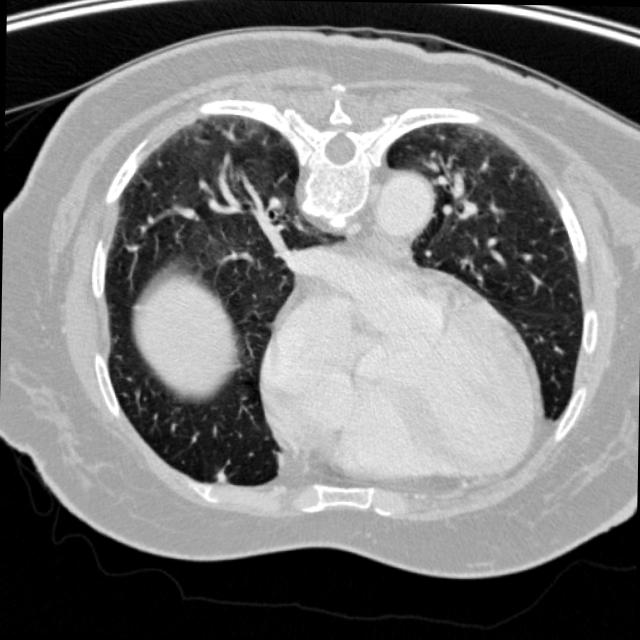nodule: (206, 464, 230, 490)
